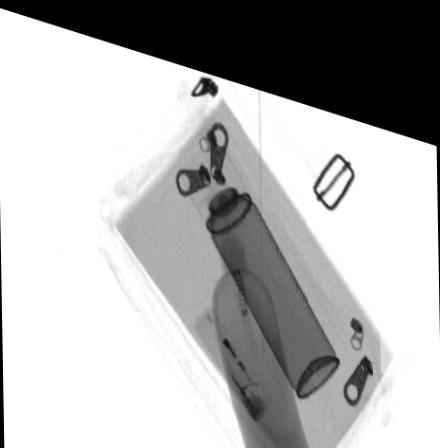Lighter: (193, 293, 271, 405)
Sprayer: (177, 125, 339, 378)
